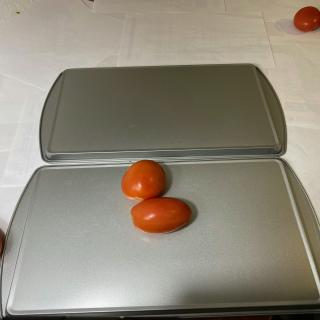Tomato: (130, 197, 192, 234), (121, 159, 166, 201), (293, 6, 320, 32)
